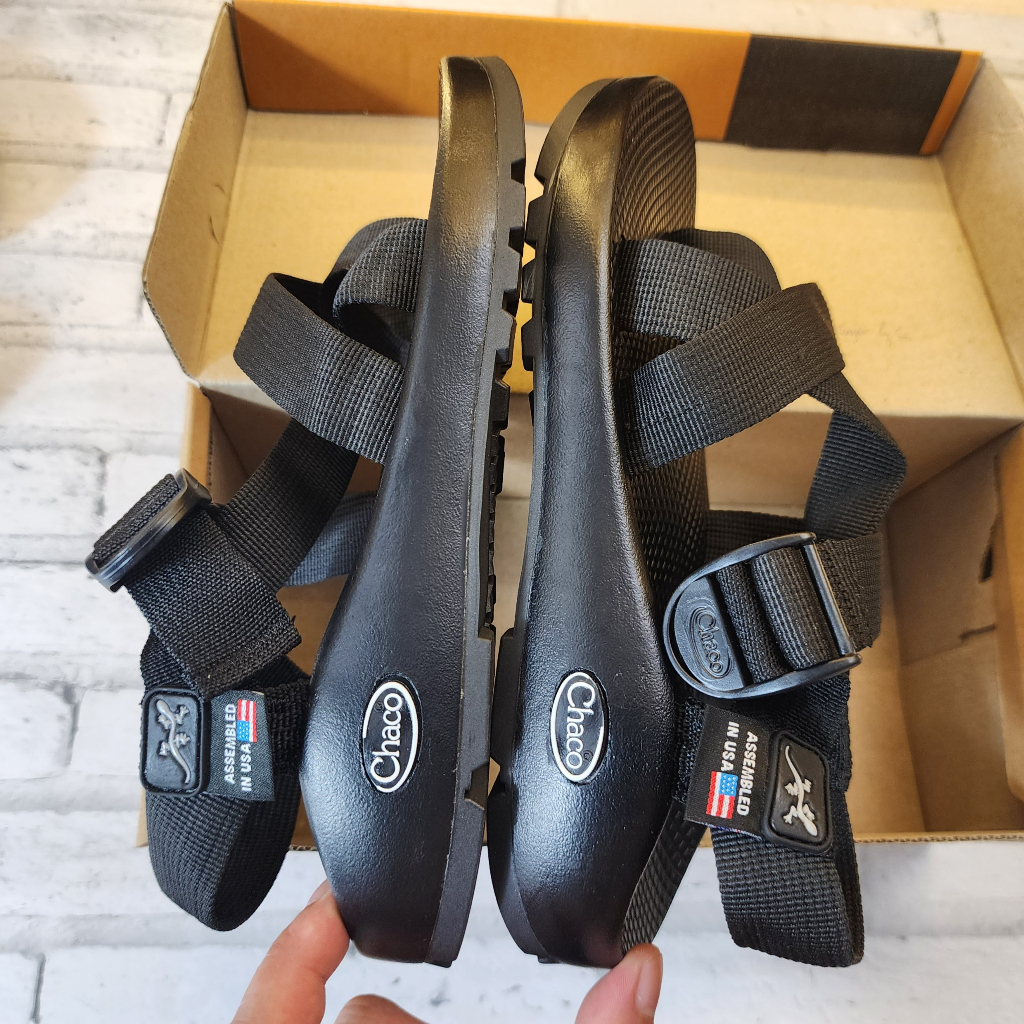sandals: (84, 55, 528, 967), (486, 72, 908, 976)
